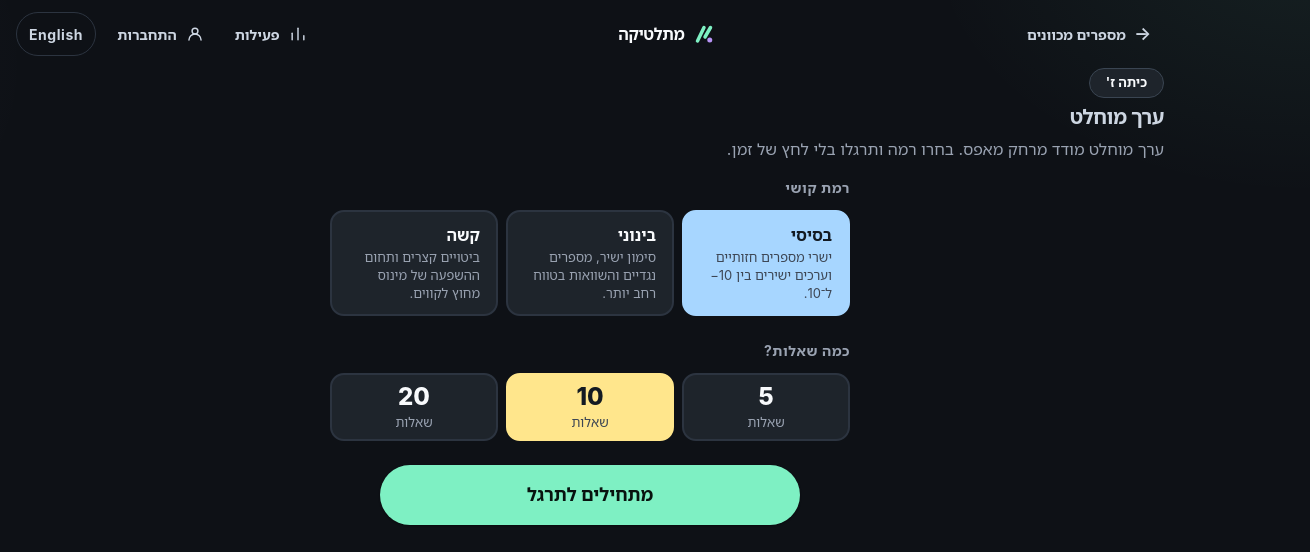
Test: Absolute Value training activity › forces every mathematical expression LTR on a Hebrew page
This screenshot has width=1310, height=552.
Click the button with test id "tr-start".
click(590, 494)  # box [380,464,800,524]
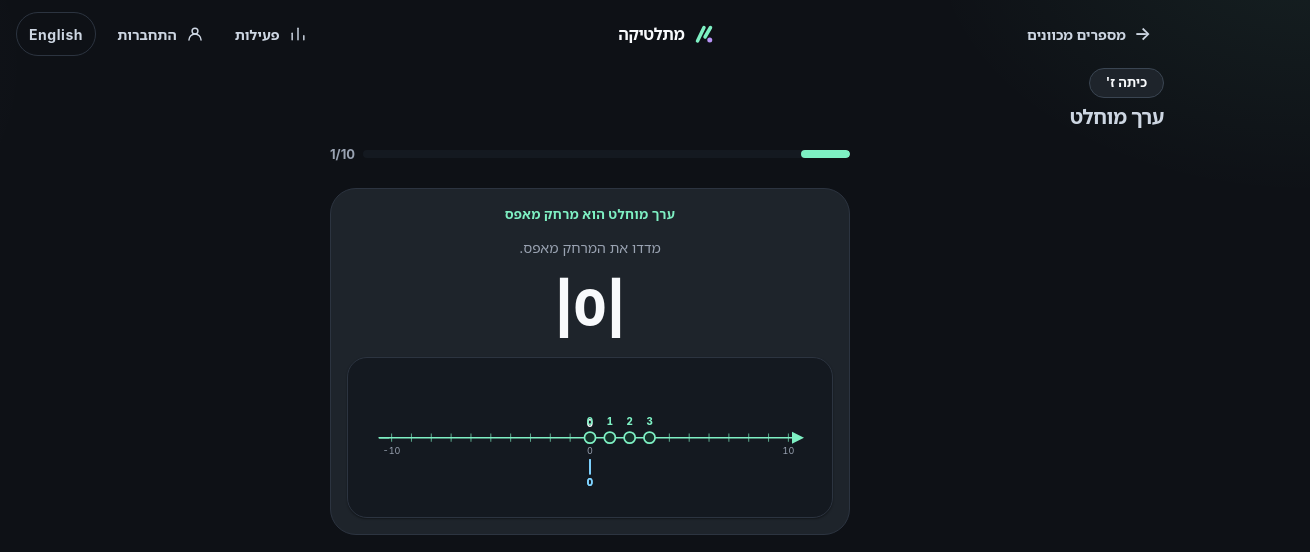
Expected: the text "|0|" is shown, [554,270,626,345]
